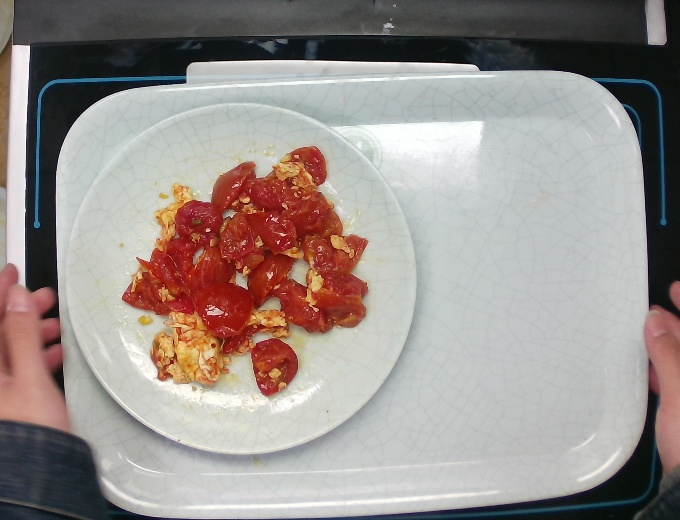JYsf-Da_Yuan_Pan: (61, 96, 425, 464)
